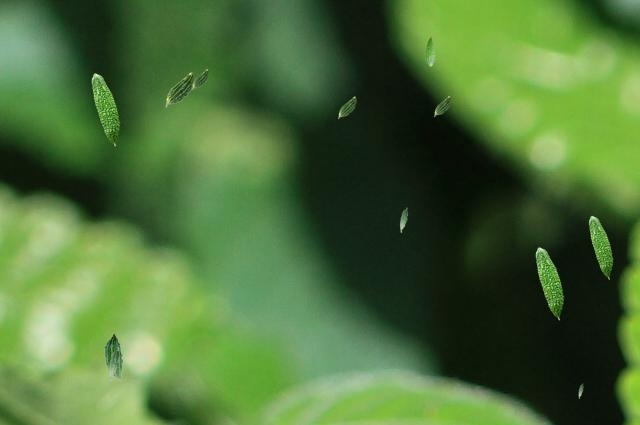ampalaya: (91, 73, 120, 146), (535, 247, 564, 320), (588, 215, 613, 280), (165, 72, 194, 107), (103, 332, 123, 381), (337, 96, 356, 119), (191, 68, 209, 90), (433, 95, 451, 117), (424, 36, 436, 68), (109, 347, 119, 380), (399, 207, 408, 232), (578, 383, 583, 399)
